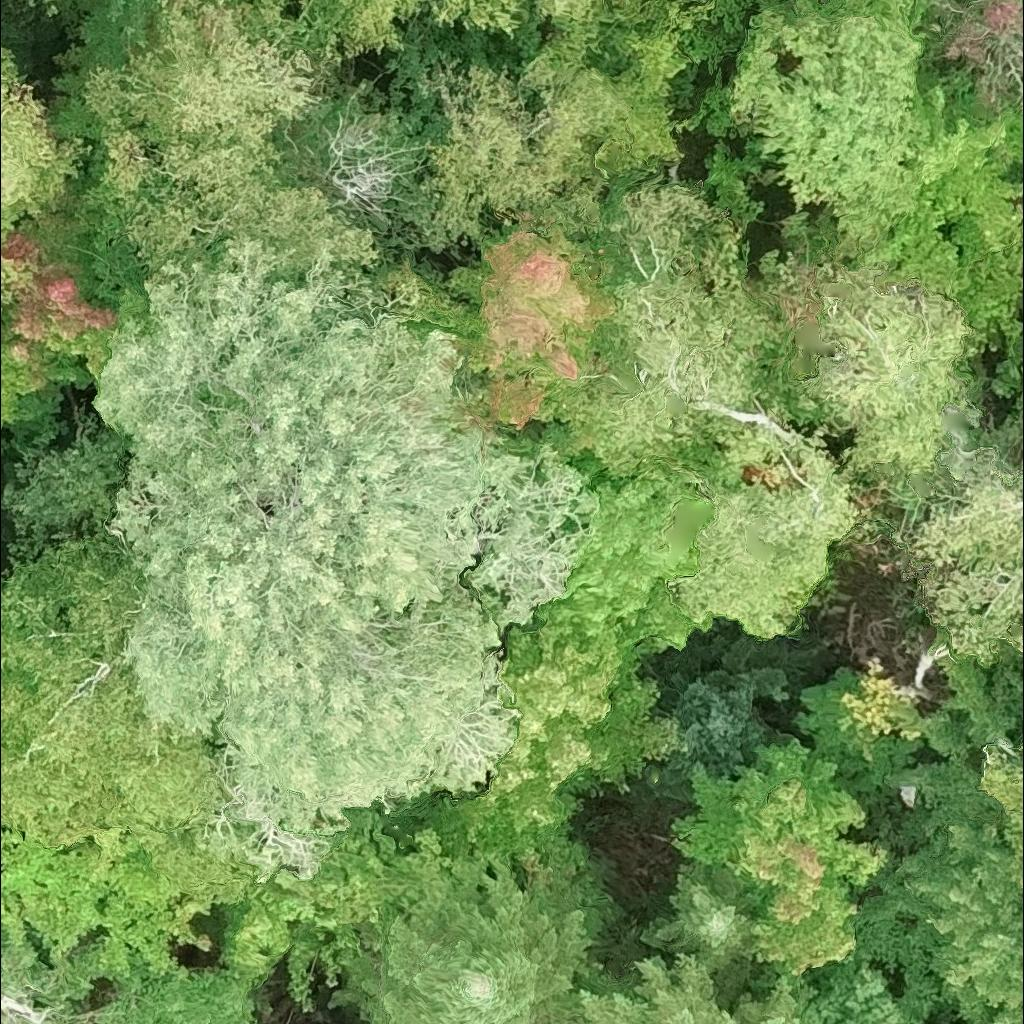crown: (91, 236, 586, 883), (408, 453, 715, 881), (602, 188, 849, 632), (83, 0, 369, 292), (0, 539, 232, 854), (724, 0, 970, 242), (675, 740, 889, 979), (399, 48, 626, 250), (0, 813, 268, 977), (429, 217, 625, 441), (356, 850, 606, 1023), (586, 0, 784, 190), (860, 123, 1023, 351), (825, 278, 982, 501), (0, 175, 152, 371), (899, 816, 1023, 1023), (902, 650, 1023, 842), (904, 476, 1023, 650), (912, 0, 1023, 160), (565, 950, 808, 1023), (652, 669, 788, 797), (0, 37, 83, 236), (635, 857, 763, 974), (511, 0, 619, 69), (795, 968, 912, 1023), (979, 742, 1023, 873), (341, 0, 432, 58), (0, 324, 51, 421), (432, 0, 520, 34), (0, 256, 18, 300), (0, 604, 2, 616)
